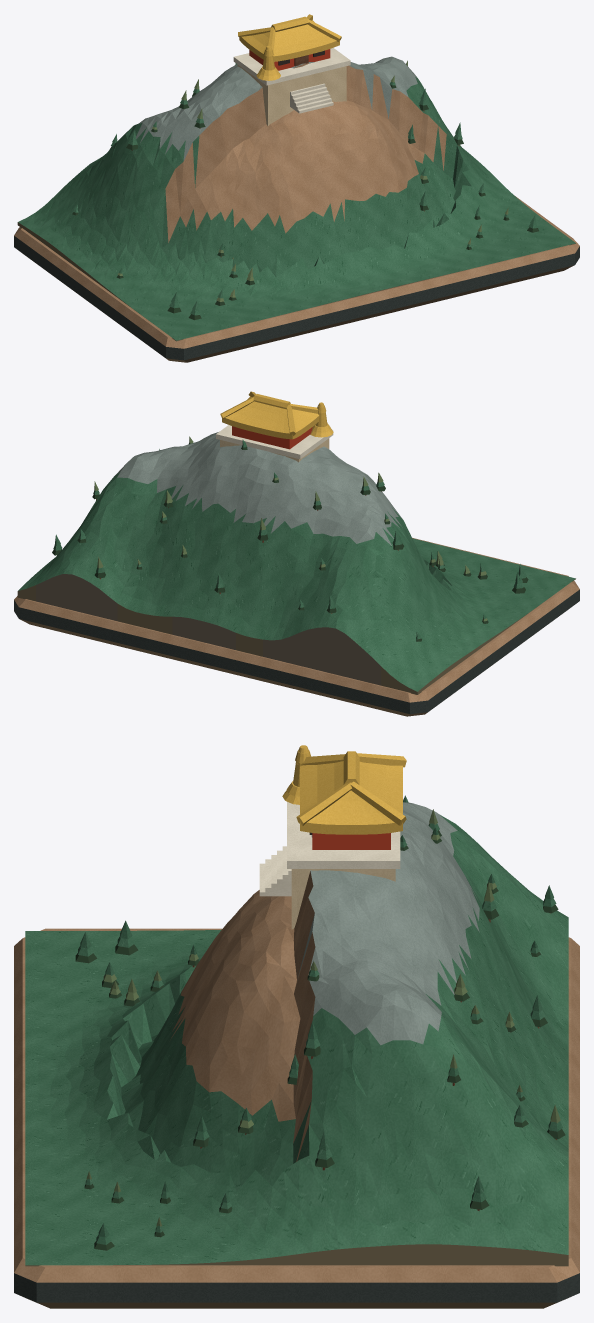
The model's file is emei.glb.
3 renders of one model, top to bottom at view 1: azimuth 30°, elevation 25°; view 2: azimuth 150°, elevation 25°; view 3: azimuth 270°, elevation 25°, orthographic. The views are drawn at different scales.
Visible parts, largest first — view 1: 峨眉山·金顶; view 2: 峨眉山·金顶; view 3: 峨眉山·金顶.
Boxes of the visible parts, bbox=[...] form: 峨眉山·金顶: bbox=[14, 14, 579, 362]; 峨眉山·金顶: bbox=[14, 391, 579, 716]; 峨眉山·金顶: bbox=[14, 745, 579, 1308].
Size of the model in its own units: 6.15 by 3.18 by 4.25.
15 materials, 8 textured.
